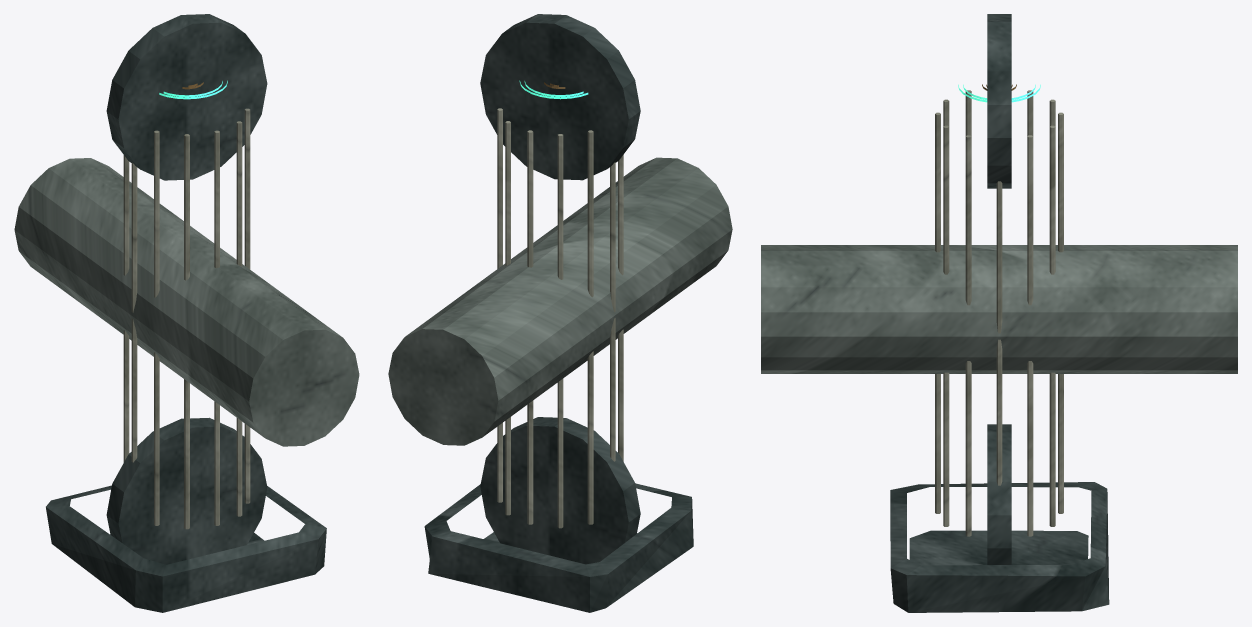
The model's file is 0284_fluted_column_09.glb.
3 renders of one model, left to right at view 1: azimuth 30°, elevation 25°; view 2: azimuth 150°, elevation 25°; view 3: azimuth 270°, elevation 25°, orthographic.
Parts seen in each view (by area): view 1: stone_dark, stone, stone_light; view 2: stone_dark, stone, stone_light; view 3: stone, stone_dark, stone_light.
Boxes of the visible parts, x1,y1,x2,y2 form: stone_dark: (46, 14, 326, 612); stone: (14, 158, 359, 446); stone_light: (123, 108, 250, 529); stone_dark: (424, 14, 693, 612); stone: (388, 157, 732, 445); stone_light: (497, 108, 623, 528); stone: (761, 245, 1237, 373); stone_dark: (890, 14, 1109, 612); stone_light: (935, 90, 1063, 536).
Bounding box in the file's own units: 1.28 × 3.63 × 2.76.
5 materials, 5 textured.
